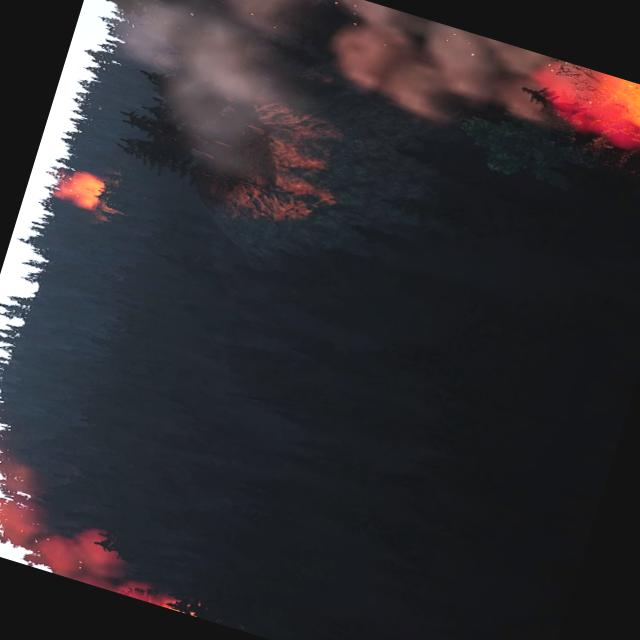fire: (518, 54, 640, 171), (53, 166, 111, 215), (130, 583, 202, 617)
smoke: (92, 0, 623, 269), (0, 450, 177, 602)
